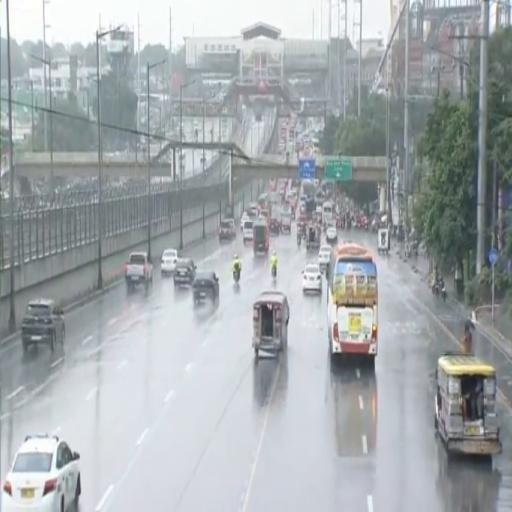bus: (328, 244, 377, 363)
car: (2, 435, 81, 511), (21, 299, 65, 351), (192, 271, 219, 303), (302, 264, 323, 294), (173, 259, 196, 286), (161, 249, 178, 276), (218, 219, 236, 242), (318, 245, 332, 273), (243, 218, 253, 244), (326, 227, 338, 245), (240, 212, 249, 232)
jeepney: (435, 352, 501, 455), (252, 291, 289, 358)
motorcycle: (432, 280, 446, 301), (233, 269, 240, 283), (271, 265, 276, 279), (297, 234, 301, 247), (302, 230, 306, 241)
truck: (125, 252, 152, 291)
